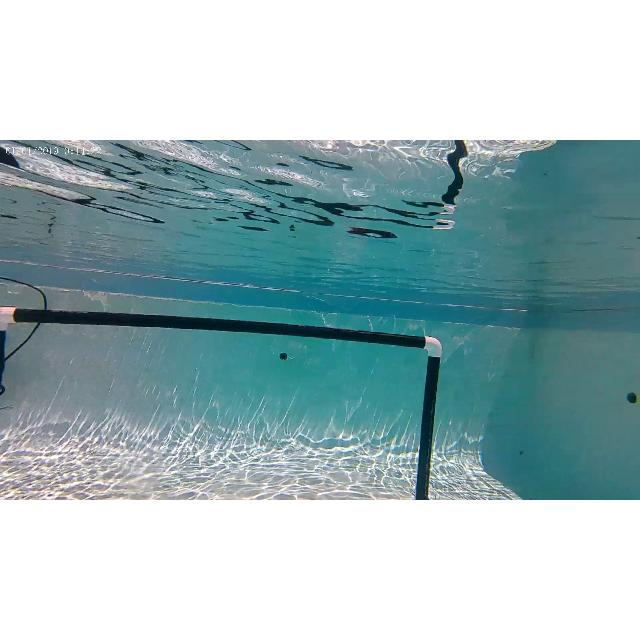prequal gate: (1, 306, 442, 500)
prequal gate leg l: (0, 306, 20, 402)
prequal gate leg r: (416, 336, 444, 500)
